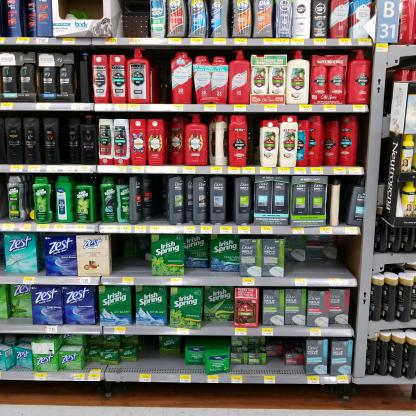Void: (288, 234, 354, 276), (110, 236, 151, 275), (152, 54, 172, 103), (121, 4, 148, 34), (152, 176, 166, 221), (137, 338, 155, 366), (250, 116, 259, 166), (157, 356, 183, 373), (239, 366, 265, 373), (272, 358, 282, 374)
